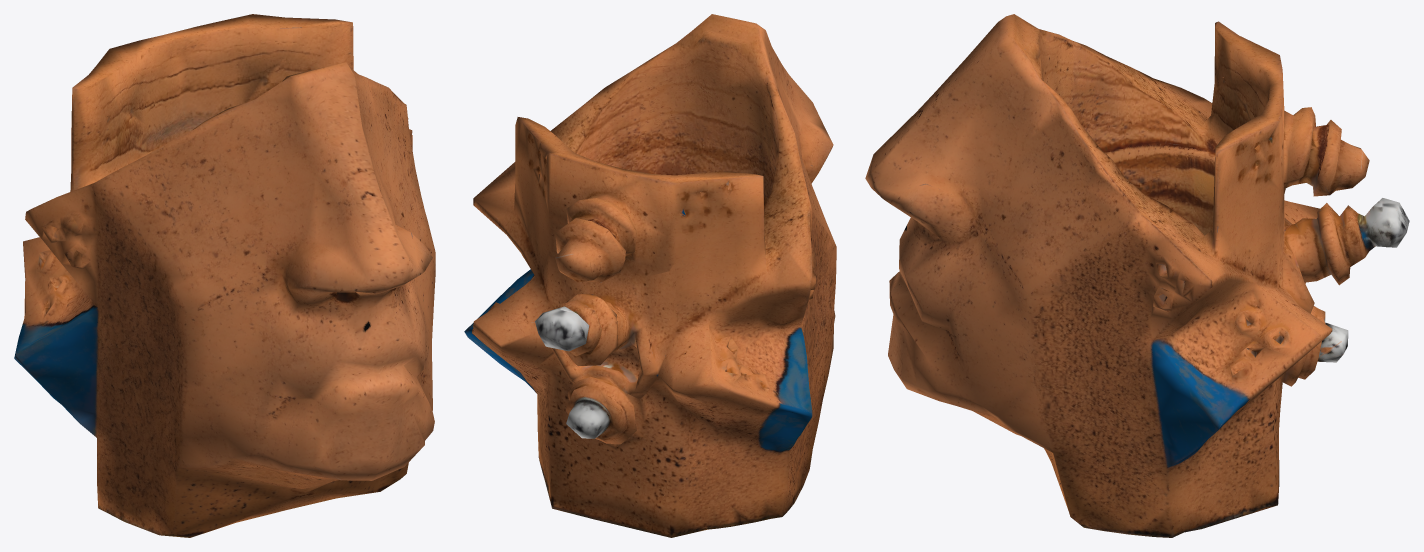
The model's file is sculpture.glb.
3 views of the same model, side by side, from view 1: azimuth 30°, elevation 25°; view 2: azimuth 150°, elevation 25°; view 3: azimuth 270°, elevation 25° (orthographic). The views are drawn at different scales.
Visible parts, largest first — view 1: Mesh1.0; view 2: Mesh1.0; view 3: Mesh1.0.
Boxes of the visible parts, <box> form: Mesh1.0: <box>14,14,435,537</box>; Mesh1.0: <box>464,14,836,537</box>; Mesh1.0: <box>865,14,1409,537</box>.
Bounding box in the file's own units: 1.53 × 1.74 × 1.92.
Materials: 1 (1 with a texture image).
